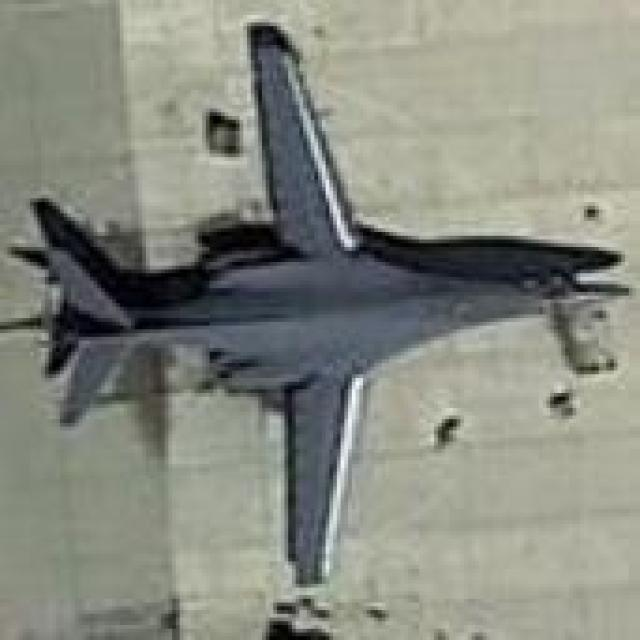B-1_TopDown: (0, 15, 633, 588)
